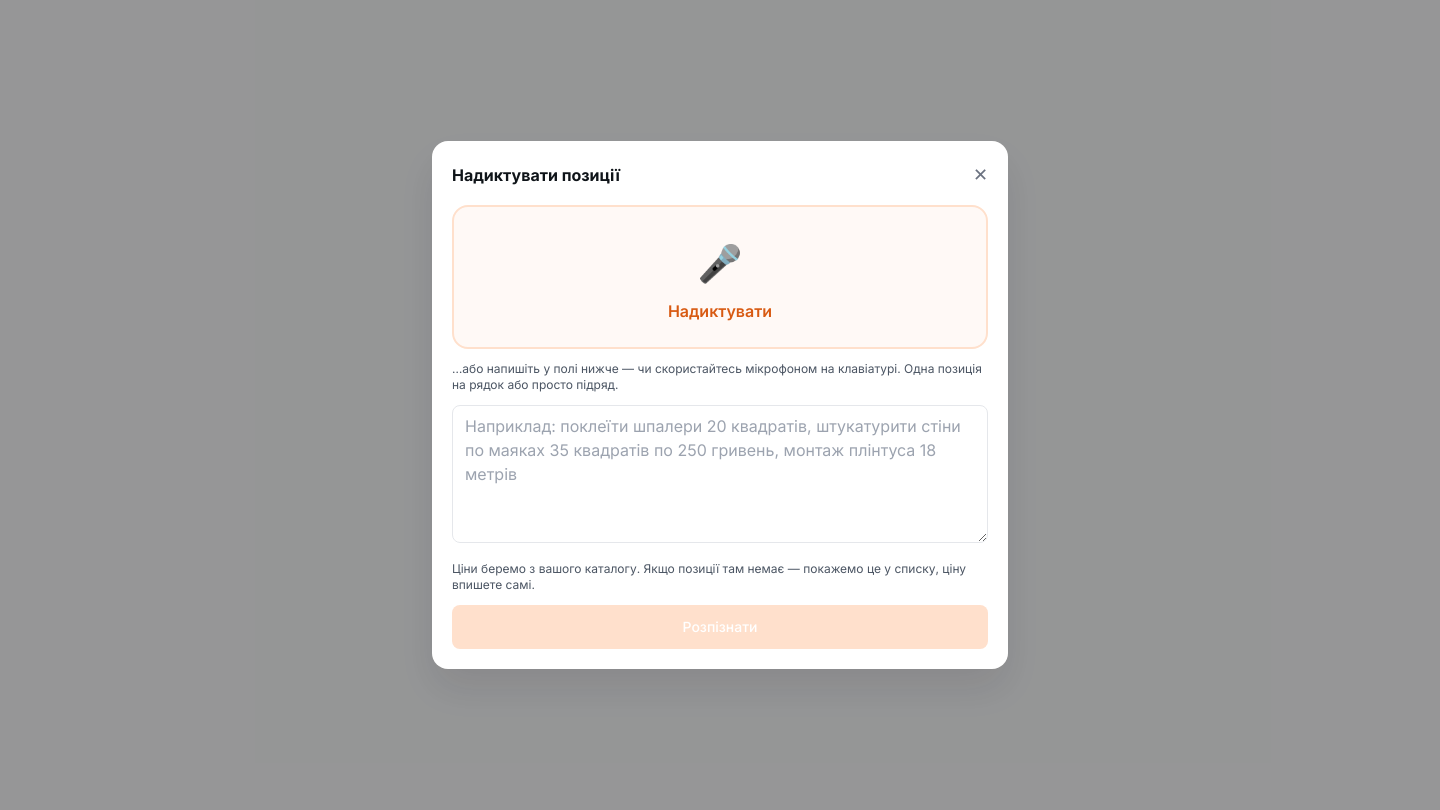
Test case: DictationSheet › says plainly that a position is not in the catalog, and leaves its price empty
The image size is (1440, 810).
Replace the text in the text box named "Текст із позиціями" with "демонтаж старої плитки 12 квадратів" at (720, 474), box [452,405,988,543]
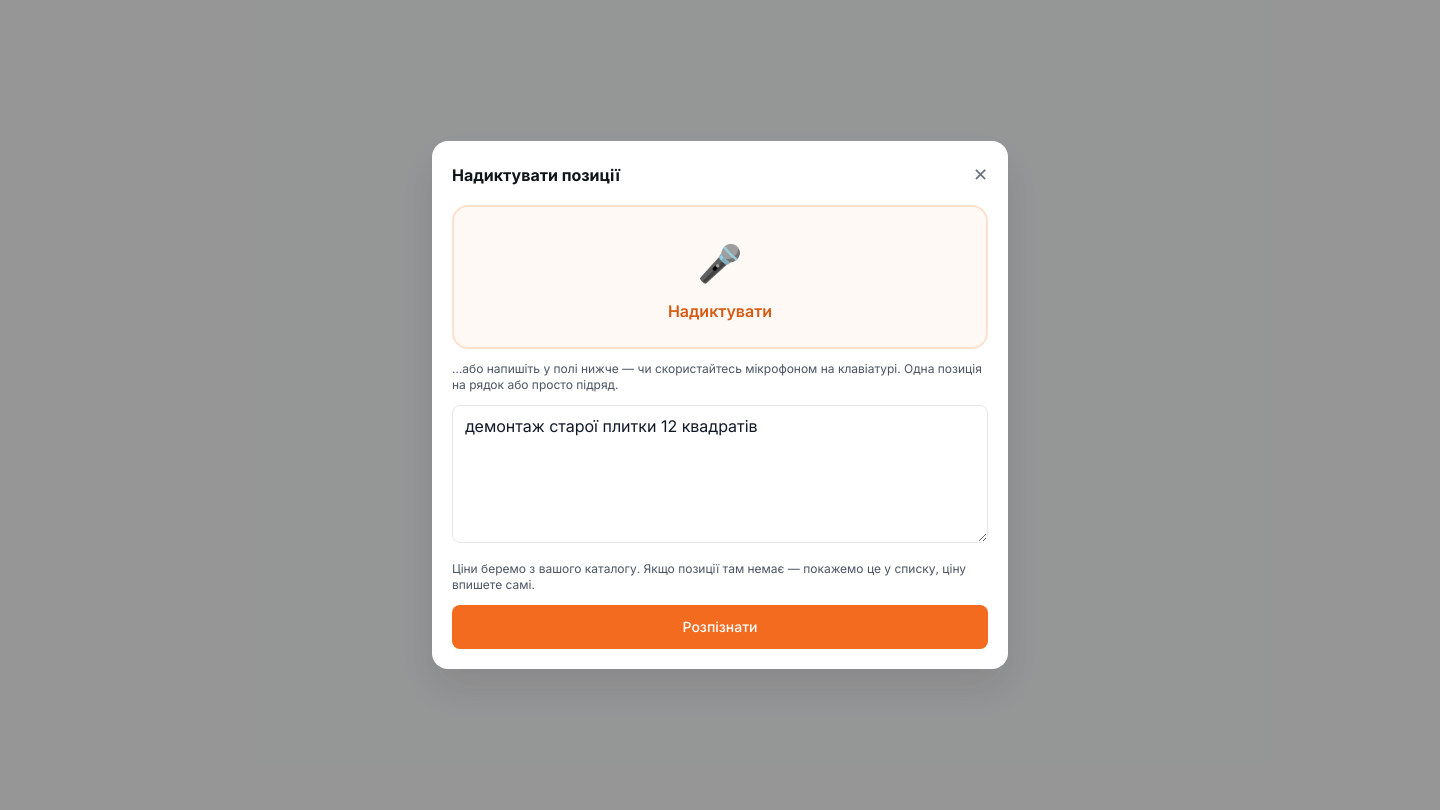
Click the button "Розпізнати".
click(720, 627)  # box [452,605,988,649]
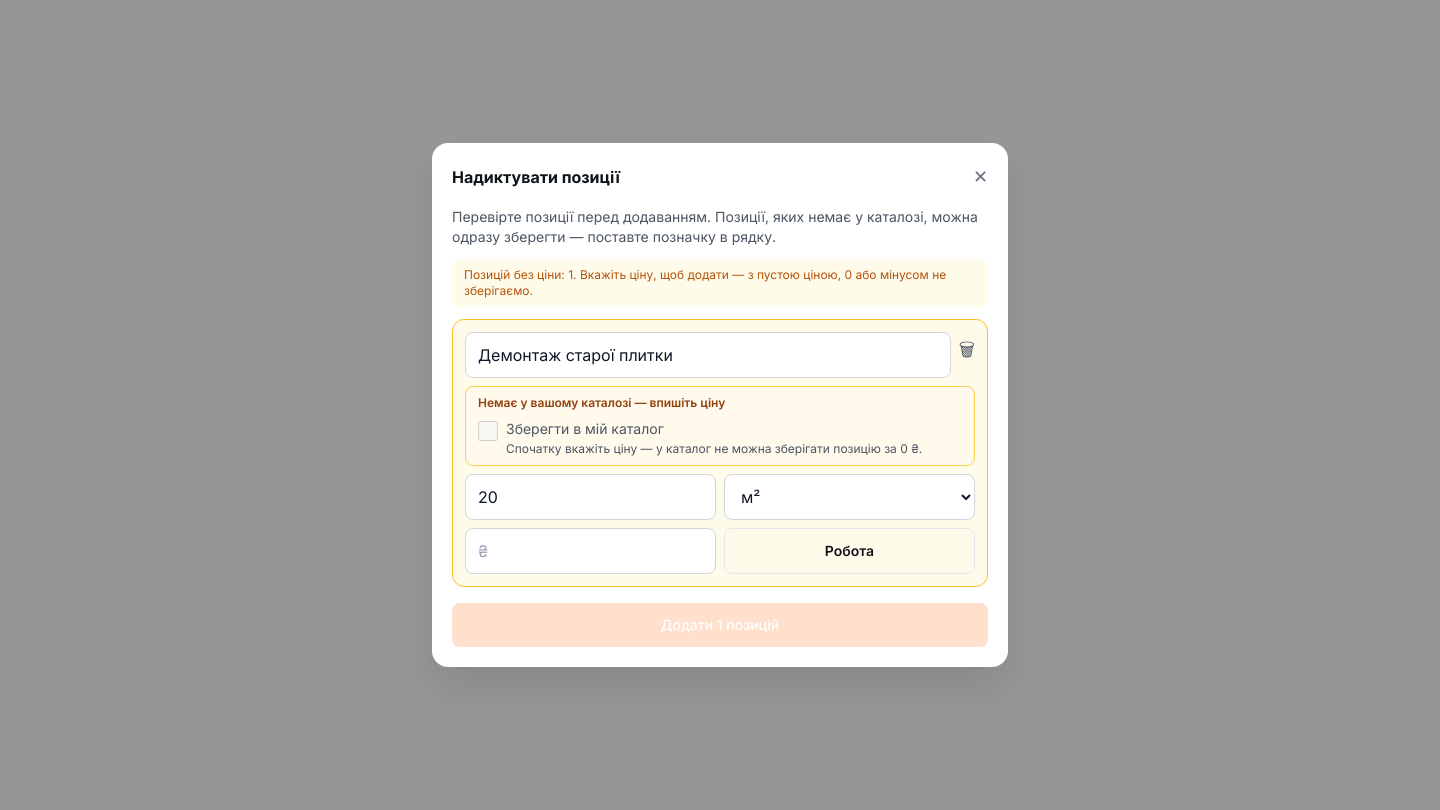
Check: the text "Немає у вашому каталозі — впишіть ціну" is shown, box [478,395,725,410]
Check: the field with placeholder "₴" is empty
Check: the text "Позицій без ціни: 1" is shown, box [464,267,946,298]
Type "450" into the field with placeholder "₴".
click(590, 551); type("450")  # box [465,528,716,574]
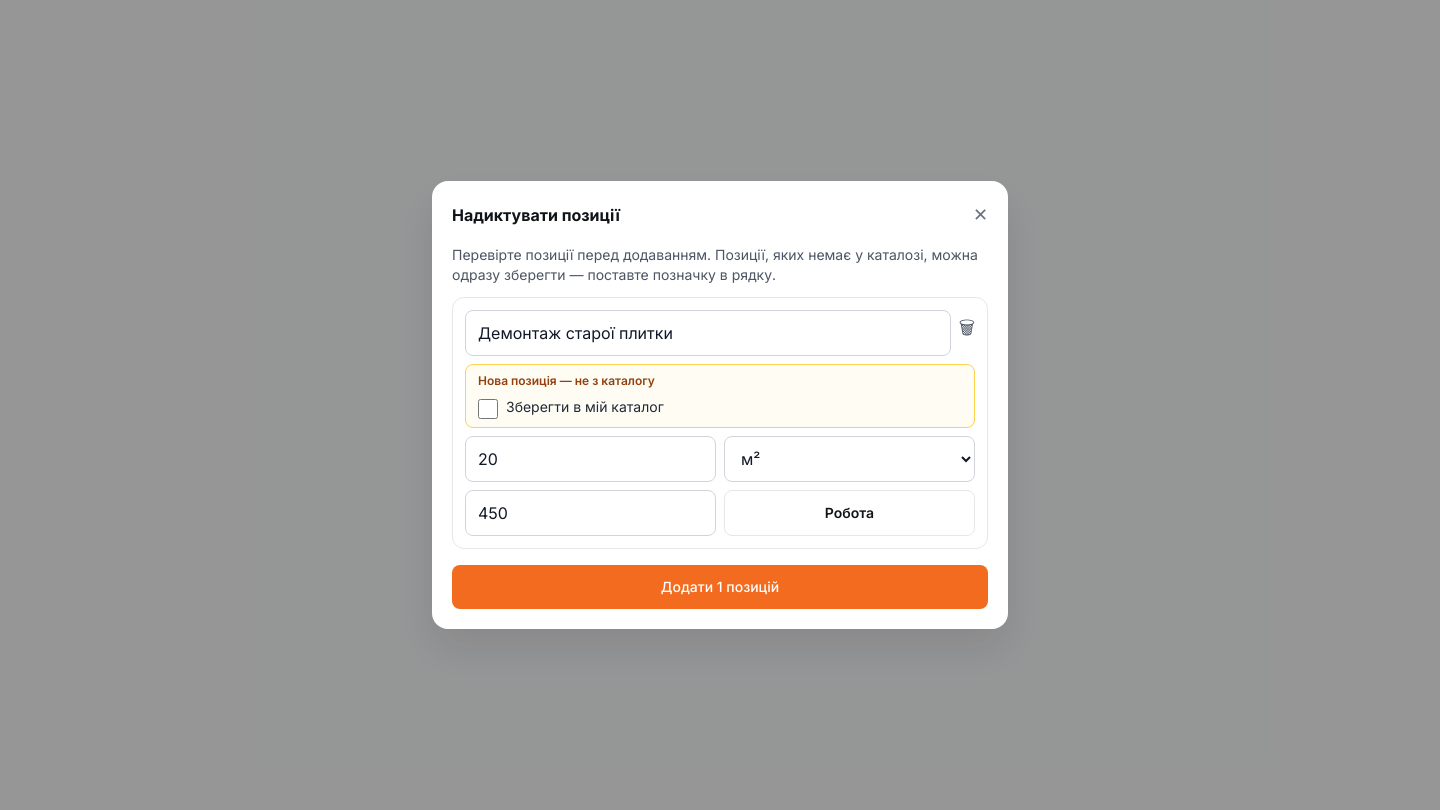
Check: the text "Немає у вашому каталозі — впишіть ціну" is gone
Check: the text "Нова позиція — не з каталогу" is shown, box [478,373,655,388]
Check: the button "Додати 1 позицій" is enabled, box [452,565,988,609]
